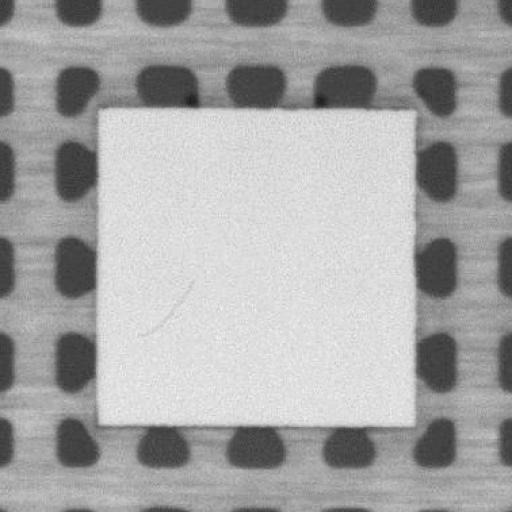DIE_CRACK: (135, 276, 195, 335)
